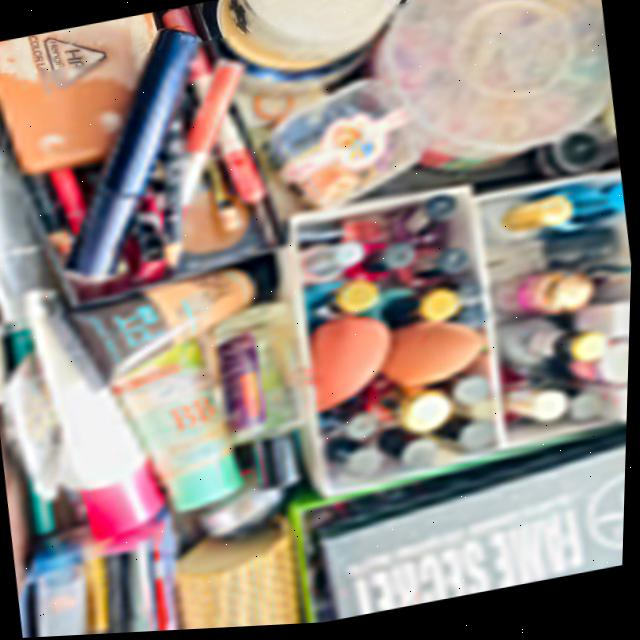eye shade: (363, 0, 623, 195)
foundation: (7, 252, 299, 582)
highlighter: (224, 0, 434, 93)
nail polish: (305, 167, 636, 513)
